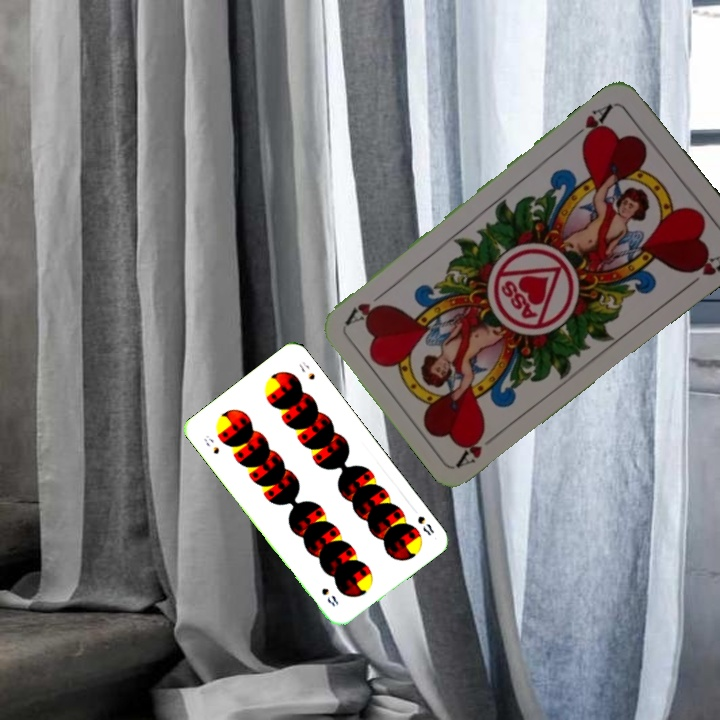HA: (567, 100, 615, 147), (454, 425, 505, 469)
S8: (413, 512, 437, 538), (199, 431, 222, 457)
